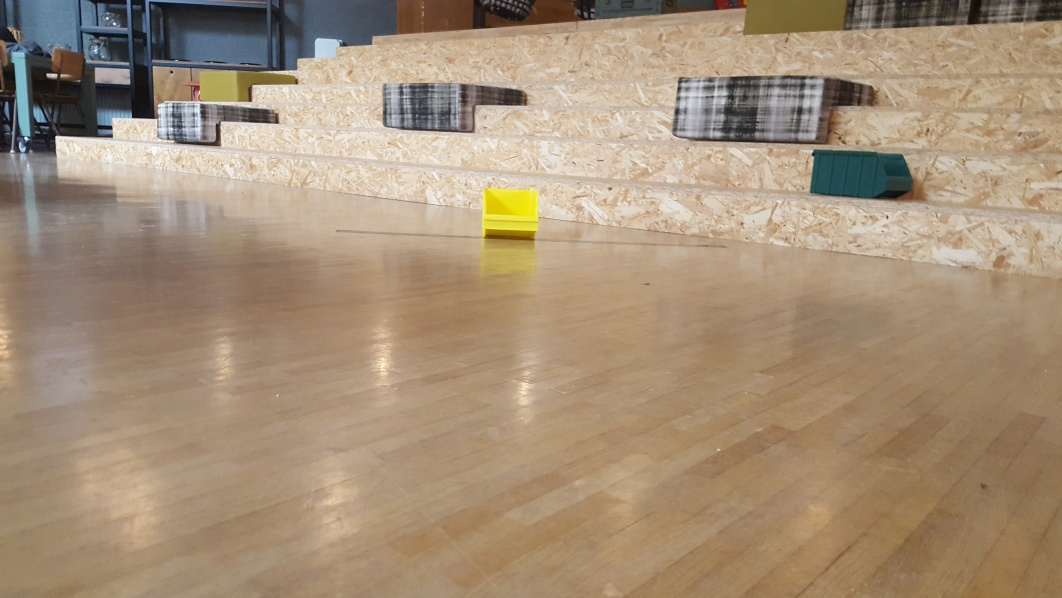tray: (806, 150, 913, 201), (481, 184, 541, 240)
